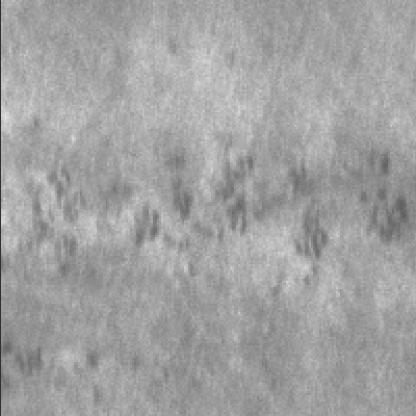rolled-in_scale: (85, 129, 314, 281), (2, 158, 129, 276), (281, 146, 412, 260), (0, 332, 104, 407)
